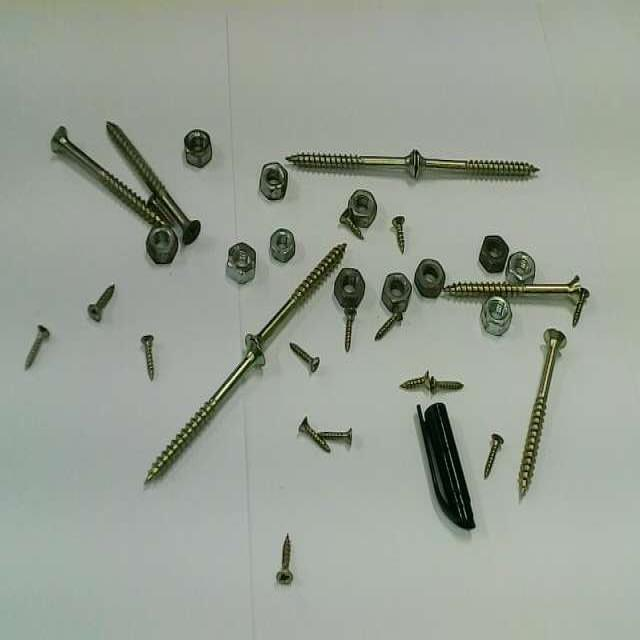Parafuso: (139, 342, 268, 485), (51, 127, 176, 249), (247, 238, 342, 362), (107, 122, 200, 243), (518, 328, 565, 498), (285, 150, 416, 179), (443, 276, 578, 297), (418, 154, 537, 177), (298, 416, 330, 451), (25, 326, 49, 369), (88, 284, 114, 321), (289, 343, 319, 373), (147, 195, 176, 225), (484, 434, 503, 478), (276, 534, 292, 585), (375, 312, 402, 341), (339, 208, 362, 239), (344, 311, 359, 357), (396, 369, 429, 389), (573, 288, 589, 326), (318, 428, 351, 446), (141, 335, 154, 379), (434, 378, 463, 395), (392, 216, 404, 253)
Porca: (334, 268, 363, 309), (414, 259, 444, 298), (481, 296, 511, 335), (226, 243, 255, 283), (382, 274, 411, 314), (146, 226, 177, 263), (479, 235, 508, 273), (348, 190, 376, 227), (184, 130, 211, 167), (260, 163, 287, 199), (506, 251, 535, 283), (270, 228, 294, 262)
